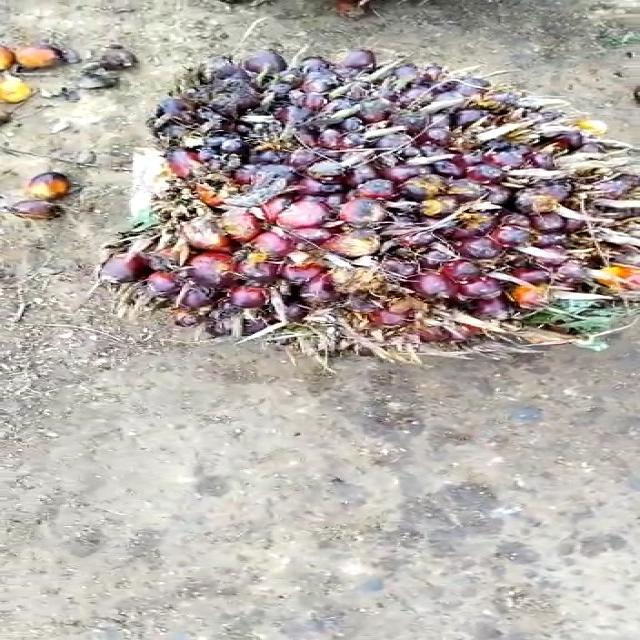palm oil: (117, 42, 640, 389)
